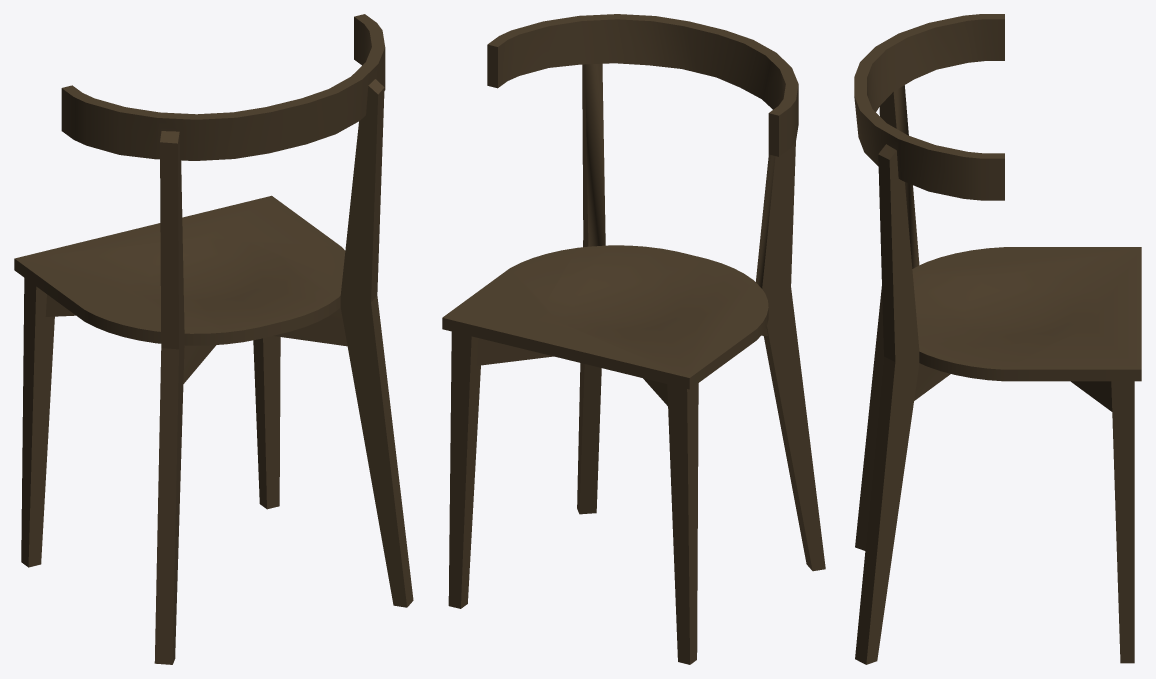
The picture shows the model from 3 angles, left to right: view 1: azimuth 30°, elevation 25°; view 2: azimuth 150°, elevation 25°; view 3: azimuth 270°, elevation 25°; orthographic projection. The views are drawn at different scales.
Parts seen in each view (by area): view 1: mesh1_mesh1-geometry; view 2: mesh1_mesh1-geometry; view 3: mesh1_mesh1-geometry.
Boxes of the visible parts, x1,y1,x2,y2 form: mesh1_mesh1-geometry: (14, 14, 413, 664); mesh1_mesh1-geometry: (442, 14, 825, 664); mesh1_mesh1-geometry: (854, 14, 1141, 664).
Bounding box in the file's own units: 0.4722 × 0.7871 × 0.3968.
